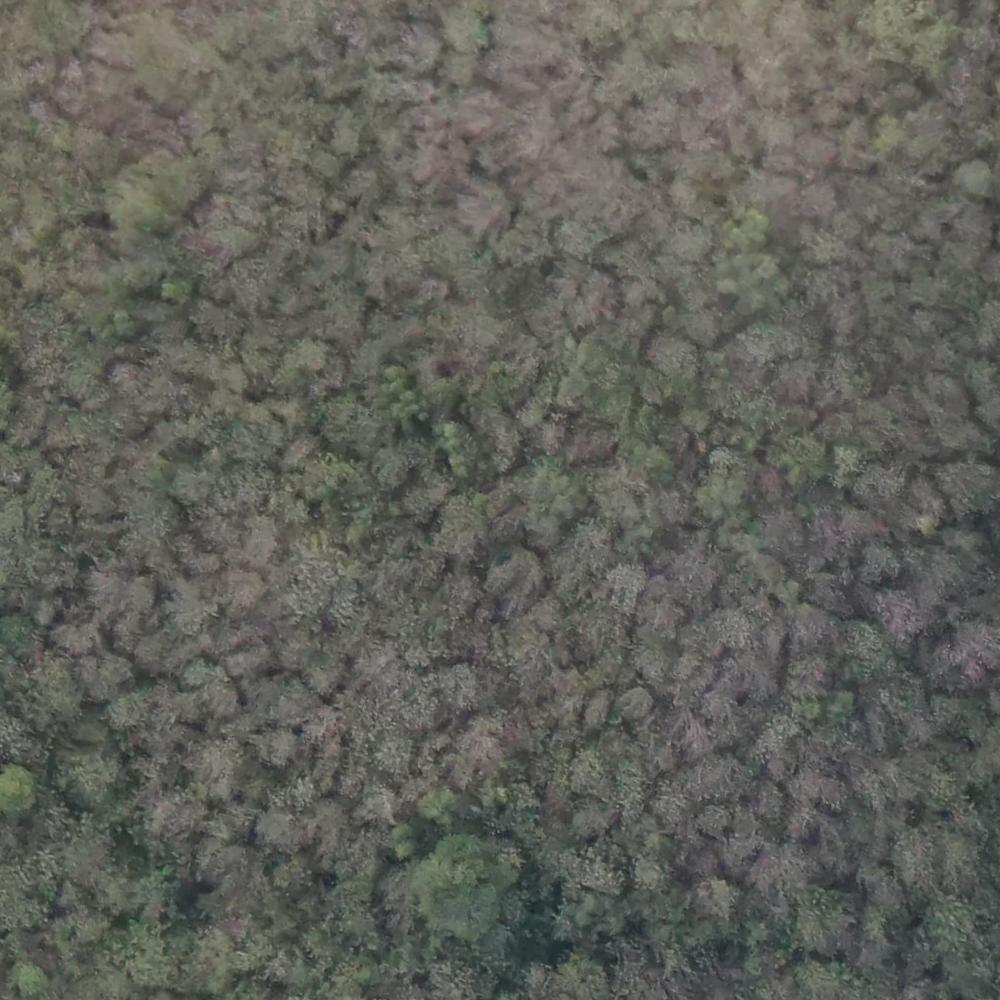tree: (412, 837, 515, 938), (112, 149, 199, 243), (490, 333, 561, 395), (292, 554, 352, 627), (14, 661, 79, 723), (190, 735, 247, 799), (921, 895, 979, 957), (754, 843, 816, 901), (797, 890, 851, 954), (439, 499, 496, 558), (559, 272, 620, 326), (463, 175, 513, 240), (63, 752, 121, 808), (843, 617, 897, 677), (214, 560, 276, 611), (646, 336, 704, 390), (893, 833, 944, 893), (164, 577, 225, 627), (871, 588, 929, 638), (755, 720, 805, 777), (489, 555, 546, 601), (80, 656, 136, 702), (192, 664, 239, 718), (688, 467, 740, 515), (458, 721, 506, 773), (258, 804, 312, 850), (130, 867, 180, 915), (358, 785, 406, 834), (785, 431, 830, 482), (694, 874, 736, 927), (438, 6, 486, 52), (632, 837, 678, 885), (607, 563, 651, 613), (720, 206, 768, 251), (748, 317, 796, 360), (254, 729, 298, 775), (571, 744, 613, 792), (706, 604, 749, 648), (953, 159, 998, 201), (371, 443, 411, 490), (530, 466, 566, 518), (857, 463, 912, 496), (701, 807, 742, 851), (174, 467, 213, 510), (1, 768, 39, 810), (12, 961, 49, 1000), (622, 685, 657, 725), (309, 655, 341, 694), (374, 740, 408, 776), (156, 271, 188, 300)
